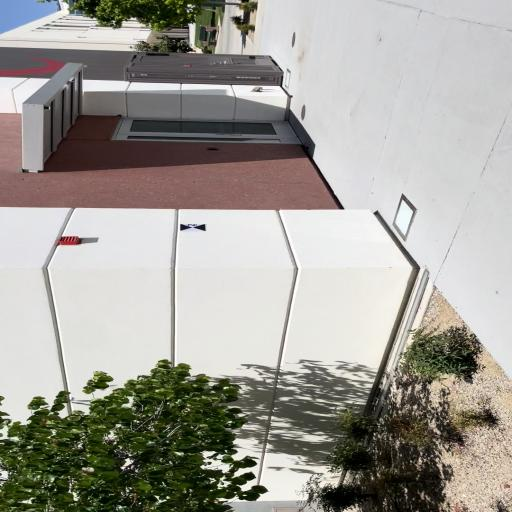target2: (180, 224, 207, 231)
